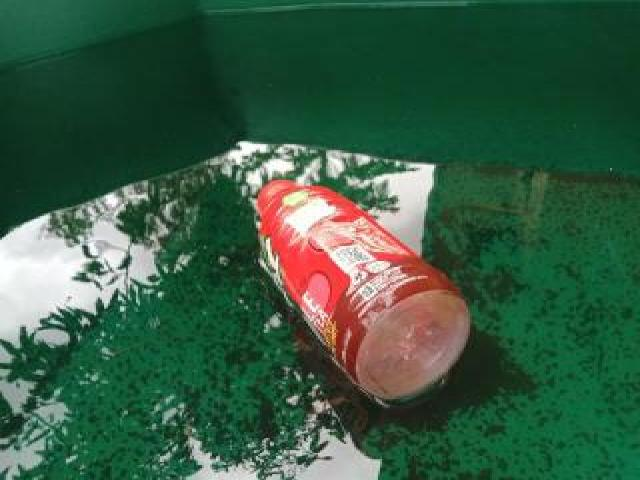Bottle: (243, 173, 478, 405)
